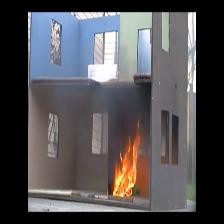fire: (117, 145, 137, 195)
smoke: (111, 89, 144, 119)
